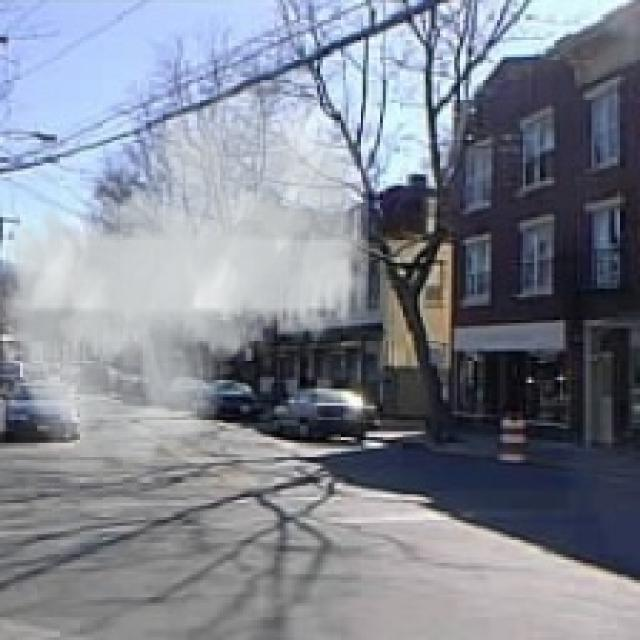Smoke: (0, 68, 369, 480)
